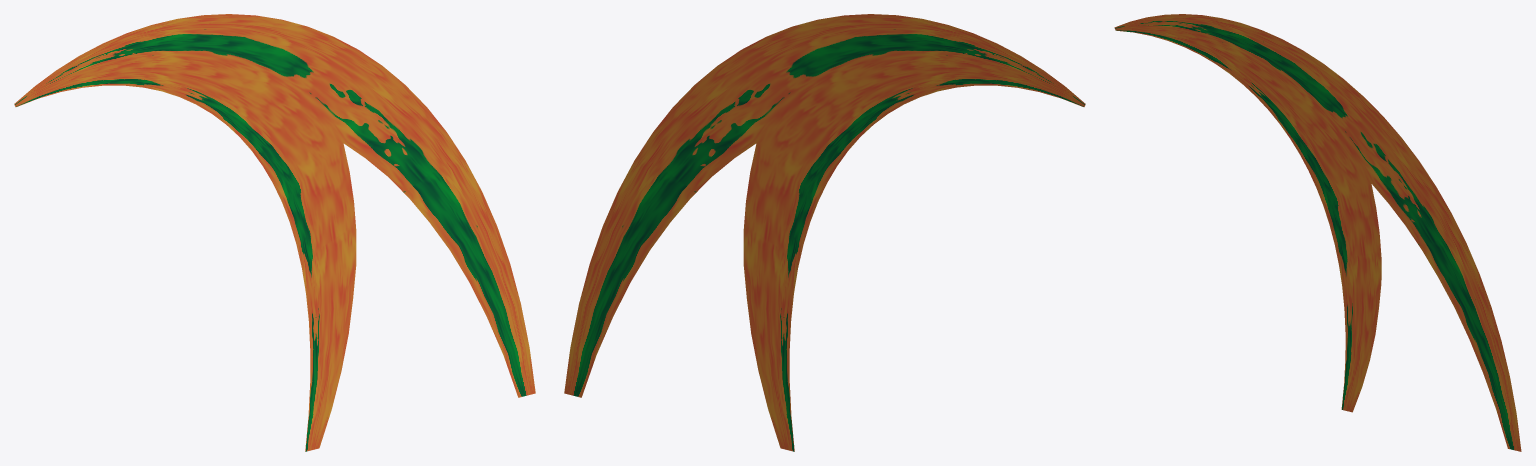
The model's file is p_trashbot_loop_sprinkler01_pose0.fbx.
3 renders of one model, left to right at view 1: azimuth 30°, elevation 25°; view 2: azimuth 150°, elevation 25°; view 3: azimuth 330°, elevation 25°, orthographic. The views are drawn at different scales.
Parts seen in each view (by area): view 1: trashbot_loop_sprinkler01_test_pose0; view 2: trashbot_loop_sprinkler01_test_pose0; view 3: trashbot_loop_sprinkler01_test_pose0.
Boxes of the visible parts, x1,y1,x2,y2 form: trashbot_loop_sprinkler01_test_pose0: [14, 14, 535, 451]; trashbot_loop_sprinkler01_test_pose0: [564, 14, 1085, 451]; trashbot_loop_sprinkler01_test_pose0: [1114, 14, 1521, 451].
Size of the model in its own units: 54.11 by 46.05 by 2.42e-06.
